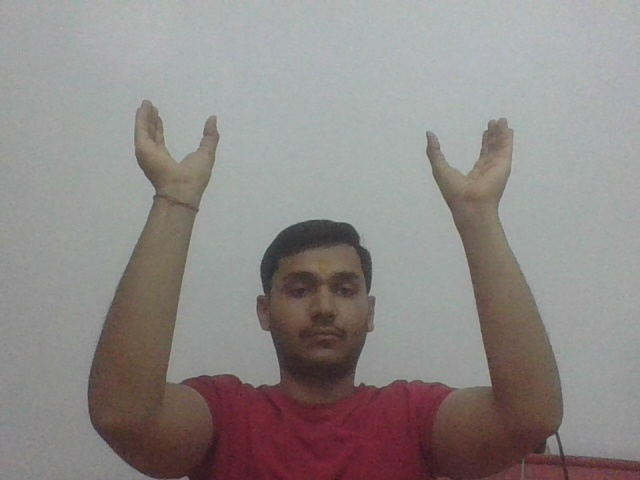U: (422, 113, 519, 216), (130, 93, 225, 192)
